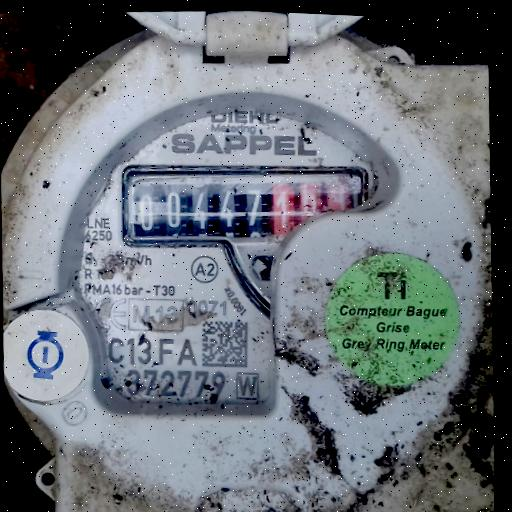0: (127, 182, 160, 239), (160, 182, 190, 238)
1: (269, 181, 296, 236)
4: (185, 182, 215, 238), (212, 182, 240, 239)
6: (298, 181, 323, 223)
7: (241, 181, 269, 239)
9: (324, 180, 350, 213)
border_water_meter_number: (124, 161, 366, 251)
